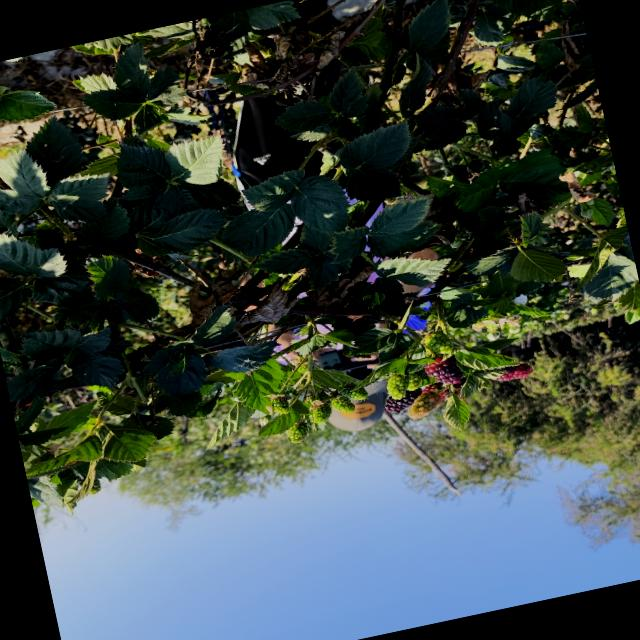marron: (425, 356, 463, 383), (384, 388, 421, 412), (496, 363, 533, 381)
verde: (408, 390, 442, 419), (386, 373, 409, 399), (287, 422, 309, 443), (311, 402, 332, 423), (331, 396, 355, 413), (270, 394, 289, 414), (407, 372, 425, 391), (349, 387, 368, 400)
